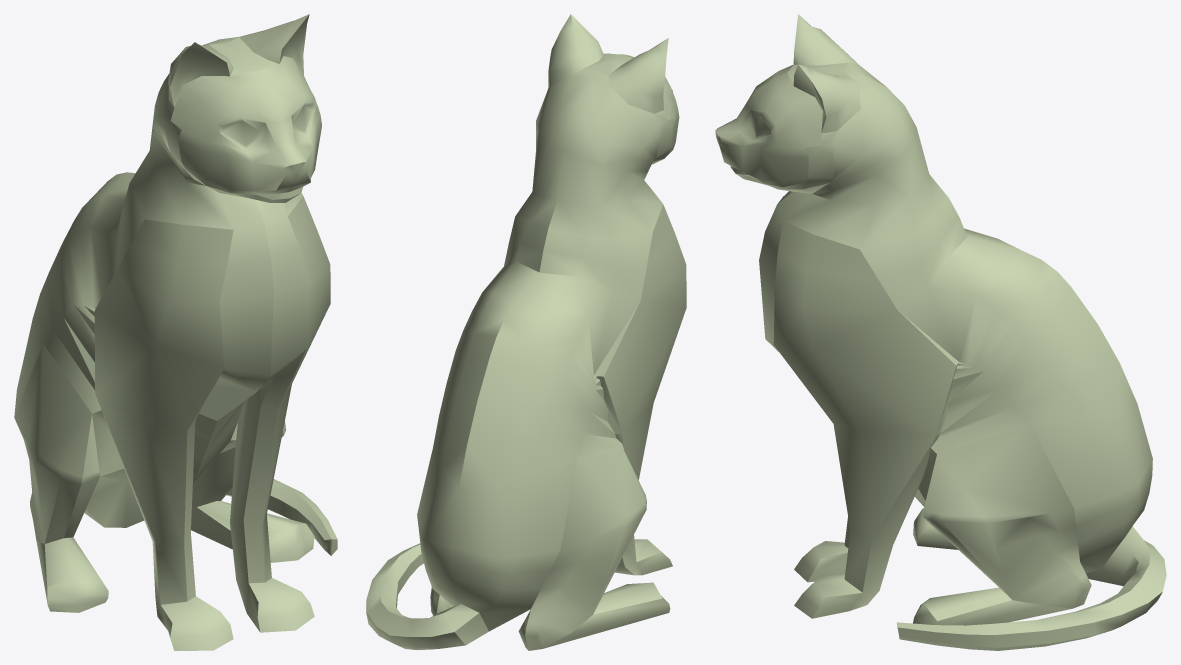
The picture shows the model from 3 angles, left to right: view 1: azimuth 30°, elevation 25°; view 2: azimuth 150°, elevation 25°; view 3: azimuth 270°, elevation 25°; orthographic projection. The views are drawn at different scales.
Parts seen in each view (by area): view 1: split_parent_0; view 2: split_parent_0; view 3: split_parent_0.
Part boxes in pixels (left/top/right/bottom): split_parent_0: left=14, top=14, right=337, bottom=650; split_parent_0: left=366, top=14, right=686, bottom=650; split_parent_0: left=715, top=14, right=1166, bottom=650.
Size of the model in its own units: 0.5011 by 1 by 0.7449.
